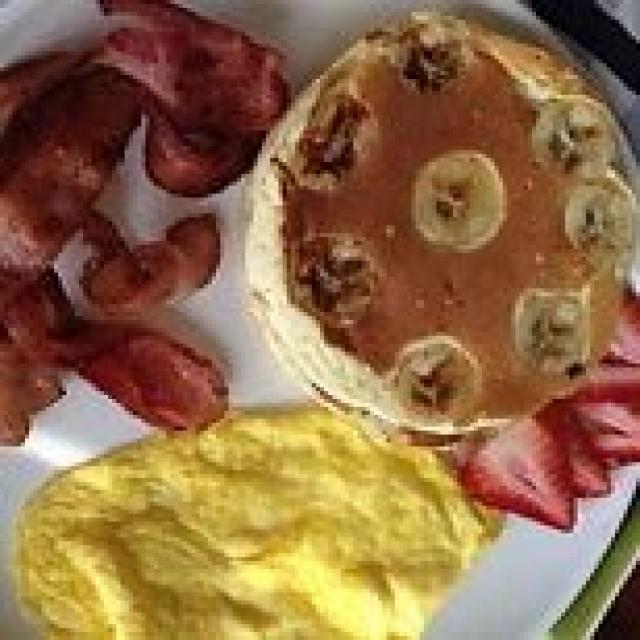Omelette: (8, 399, 494, 636)
Pancakes: (237, 8, 636, 434)
